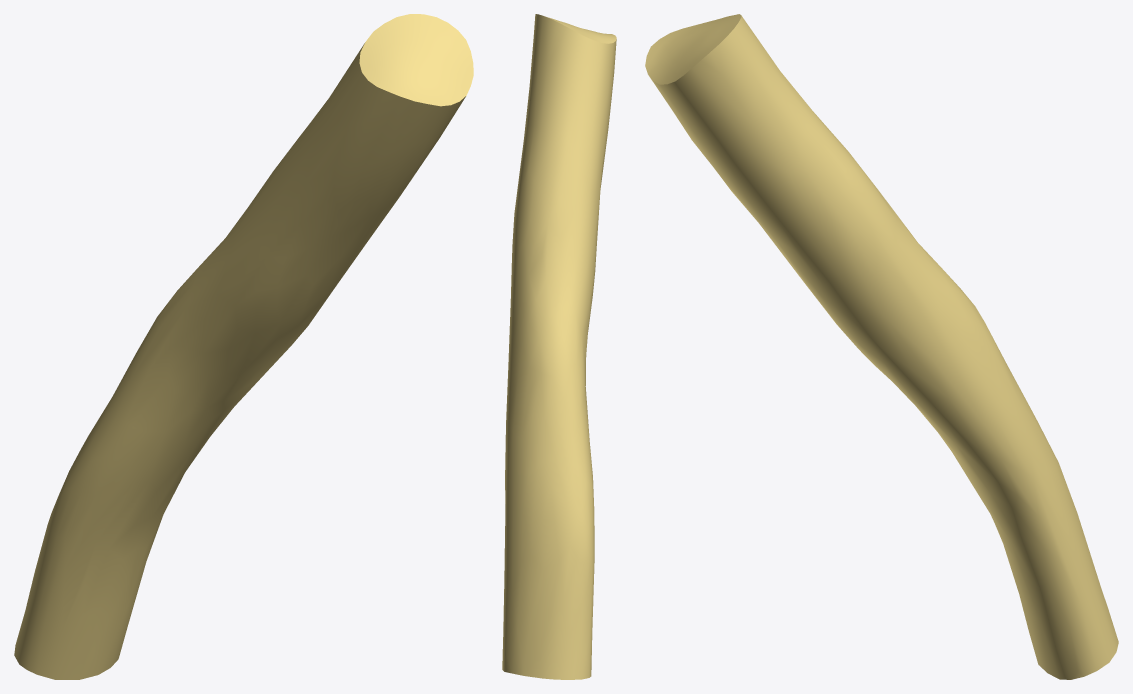
File: fma72606-l_mm2666.glb
3 views of the same model, side by side, from view 1: azimuth 30°, elevation 25°; view 2: azimuth 150°, elevation 25°; view 3: azimuth 270°, elevation 25° (orthographic). The views are drawn at different scales.
Parts seen in each view (by area): view 1: FMA72606-L_MM2666; view 2: FMA72606-L_MM2666; view 3: FMA72606-L_MM2666.
Boxes of the visible parts, box(x1,y1,x2,y2) form: FMA72606-L_MM2666: box(14, 14, 473, 679); FMA72606-L_MM2666: box(502, 14, 616, 679); FMA72606-L_MM2666: box(645, 14, 1118, 679).
Bounding box in the file's own units: 0.00481 × 0.013 × 0.00778.
